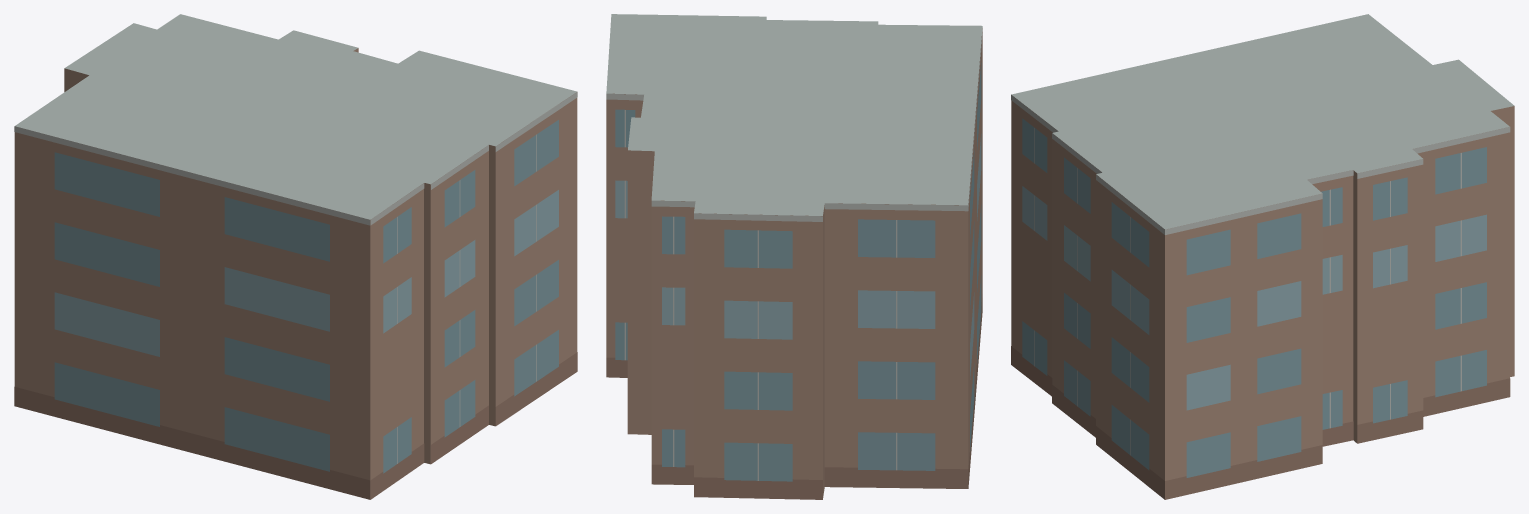
The model's file is survey-upis-32594874.glb.
The picture shows the model from 3 angles, left to right: view 1: azimuth 30°, elevation 25°; view 2: azimuth 150°, elevation 25°; view 3: azimuth 270°, elevation 25°; orthographic projection. The views are drawn at different scales.
Visible parts, largest first — view 1: survey-upis-32594874.tmp; view 2: survey-upis-32594874.tmp; view 3: survey-upis-32594874.tmp.
Boxes of the visible parts, x1,y1,x2,y2 form: survey-upis-32594874.tmp: (14, 14, 577, 499); survey-upis-32594874.tmp: (606, 14, 982, 499); survey-upis-32594874.tmp: (1011, 14, 1514, 499).
Size of the model in its own units: 19.91 by 11.64 by 19.66.
